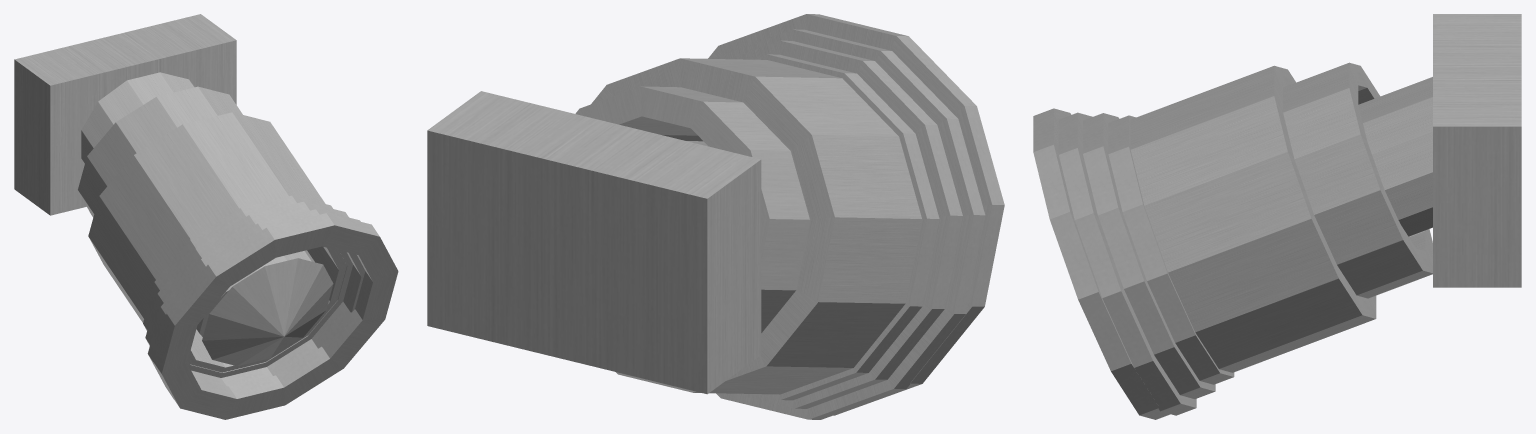
The model's file is speaker.obj.
3 renders of one model, left to right at view 1: azimuth 30°, elevation 25°; view 2: azimuth 150°, elevation 25°; view 3: azimuth 270°, elevation 25°, orthographic. The views are drawn at different scales.
Parts seen in each view (by area): view 1: tube, cube, cone, cylinder; view 2: tube, cube; view 3: tube, cube, cylinder.
Boxes of the visible parts, box(x1,y1,x2,y2) form: tube: box(78, 86, 398, 419); cube: box(14, 14, 236, 215); cone: box(202, 258, 333, 366); cylinder: box(81, 72, 314, 336); tube: box(575, 14, 1004, 419); cube: box(427, 91, 761, 394); tube: box(1033, 62, 1432, 419); cube: box(1433, 14, 1521, 287); cylinder: box(1358, 77, 1432, 236).
Bounding box in the file's own units: 0.225 × 0.2575 × 0.3437.
1 material, 1 textured.
